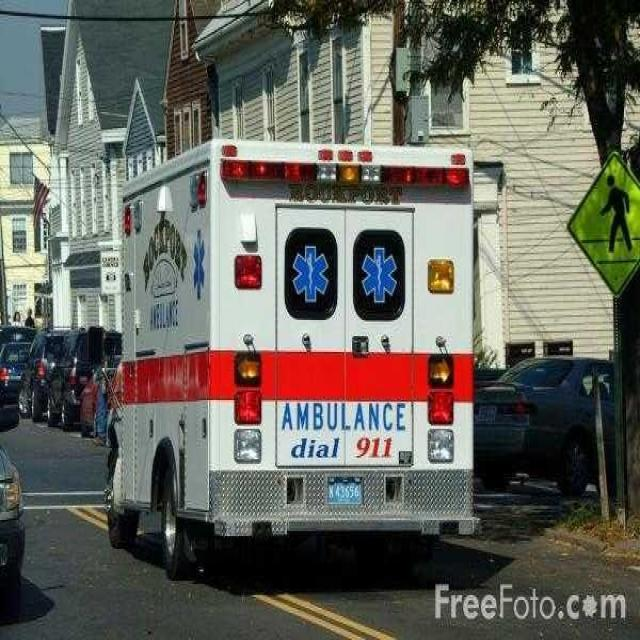emergency-vehicle: (99, 136, 477, 576)
